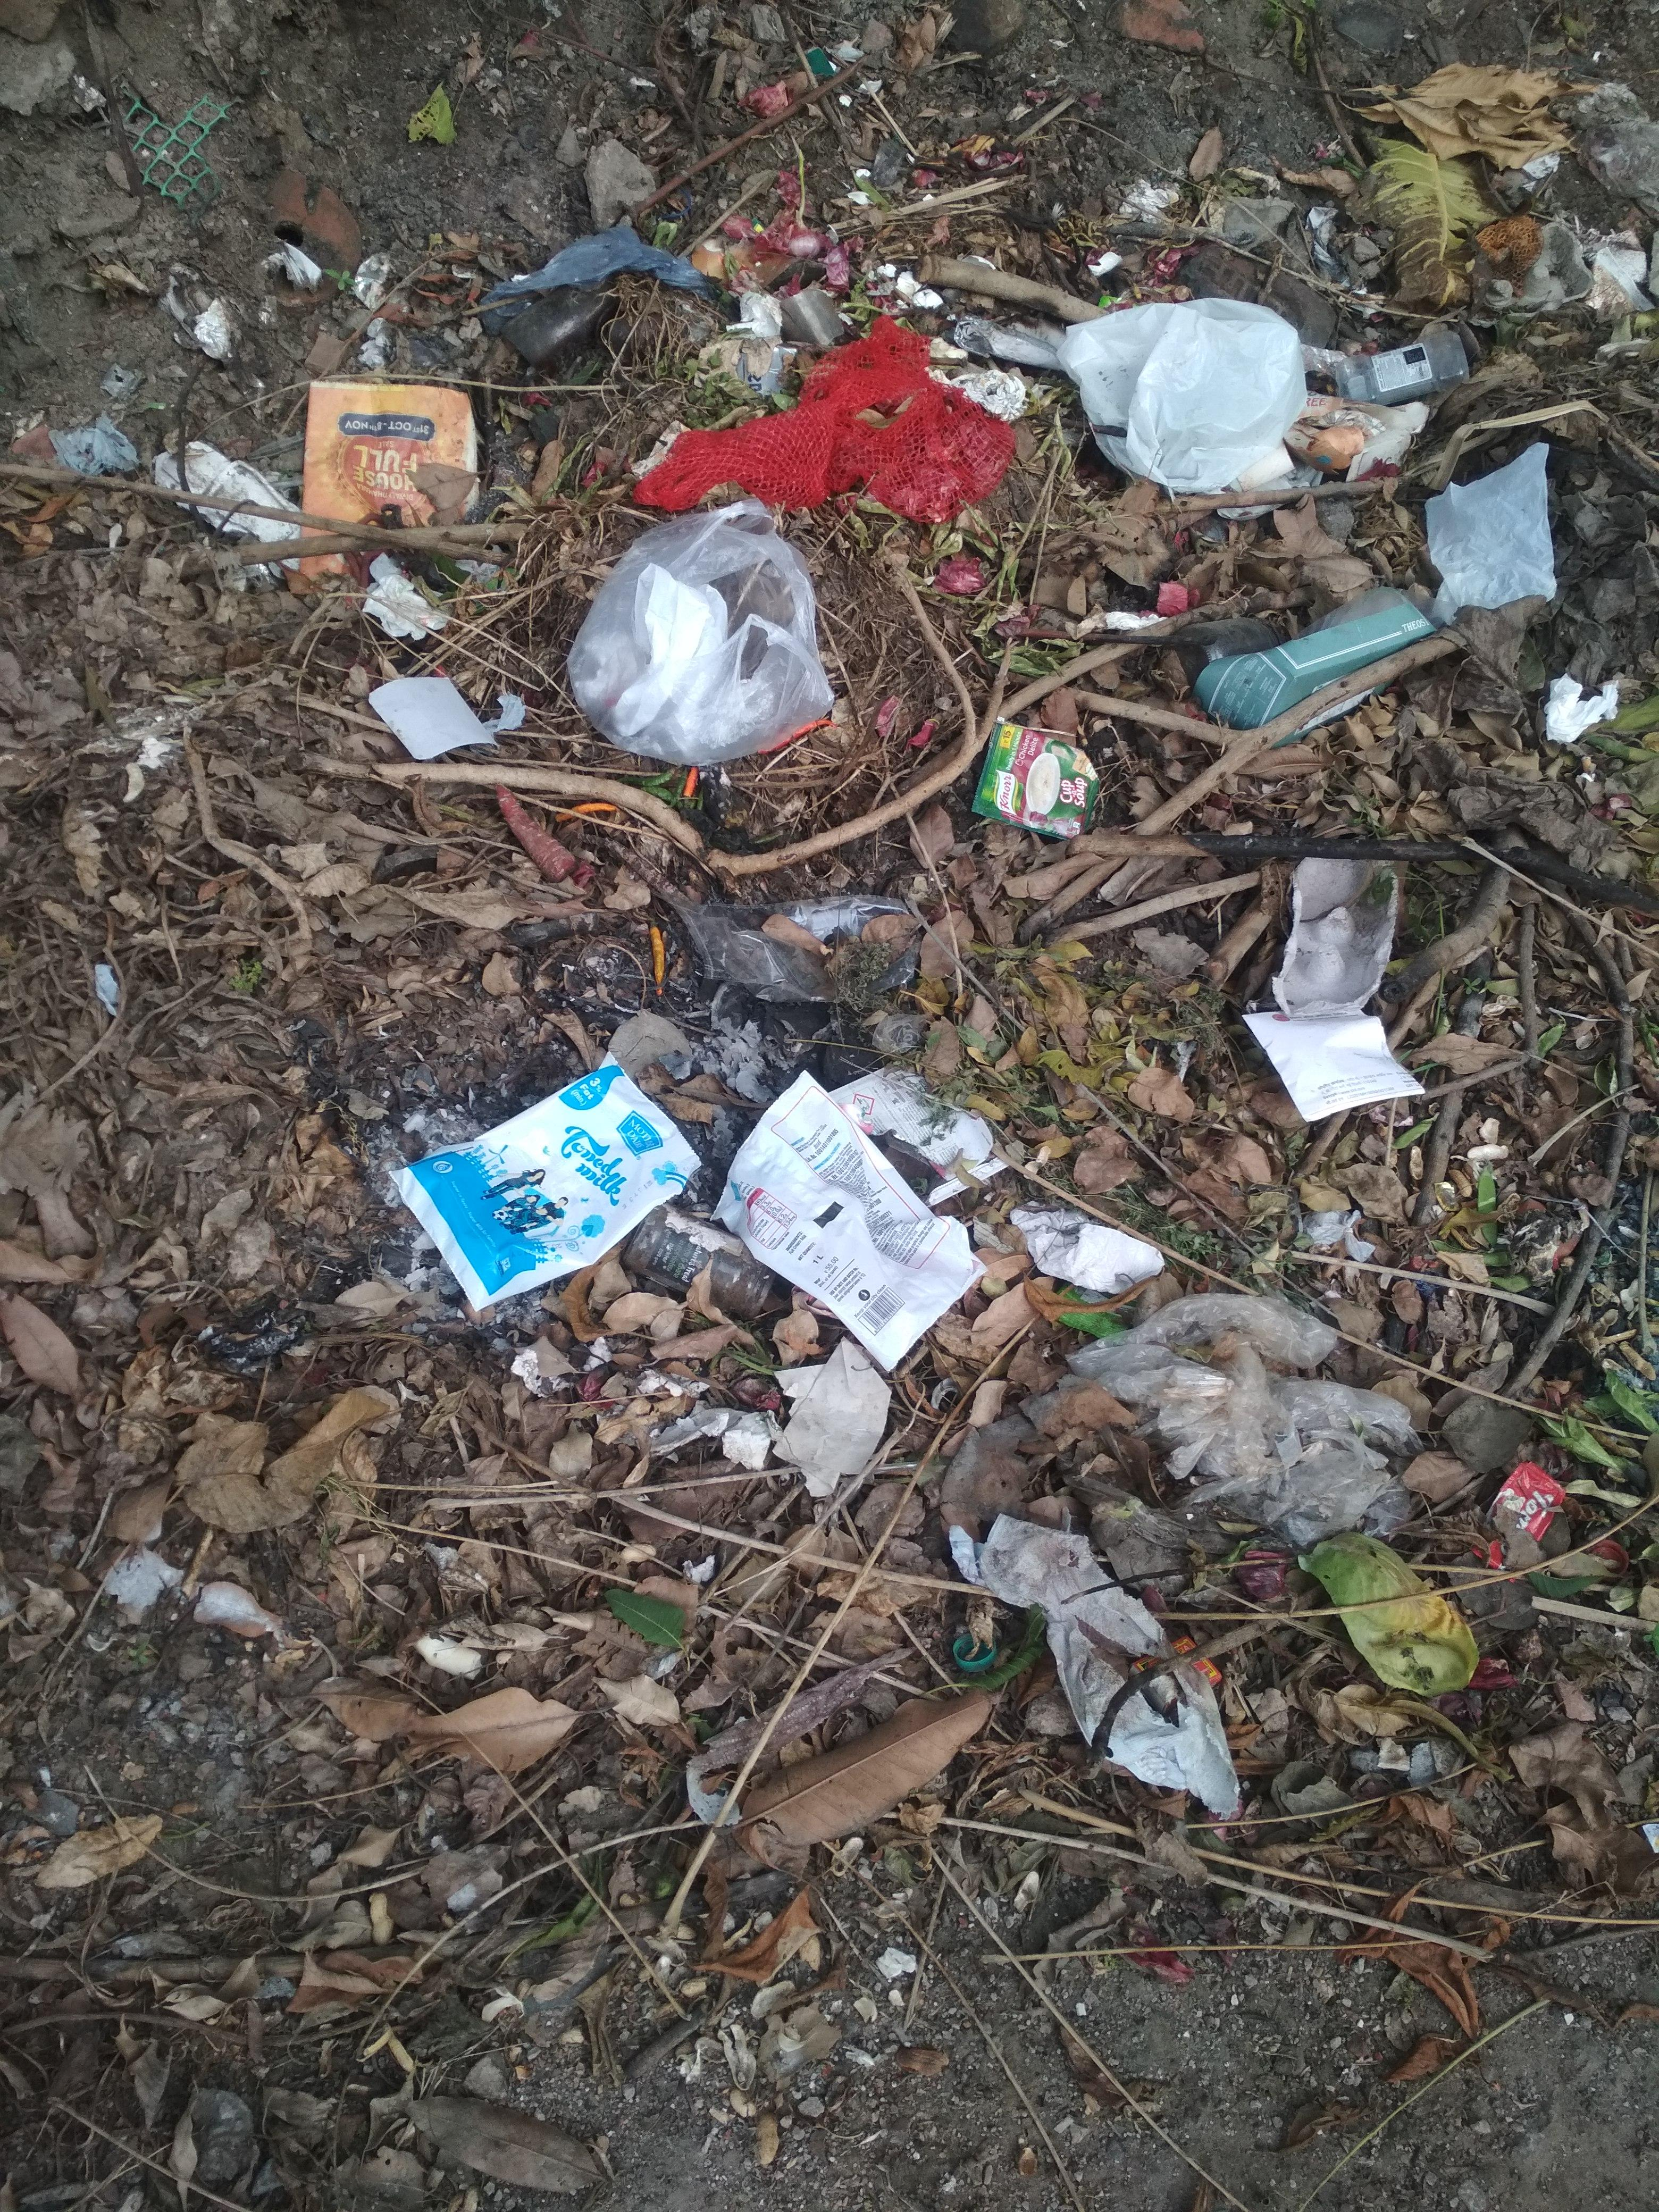trash: (181, 23, 1659, 1834)
